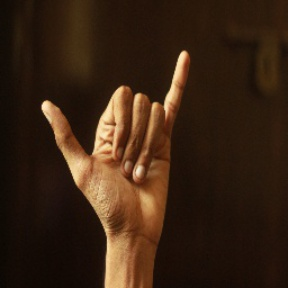J: (37, 48, 194, 232)
